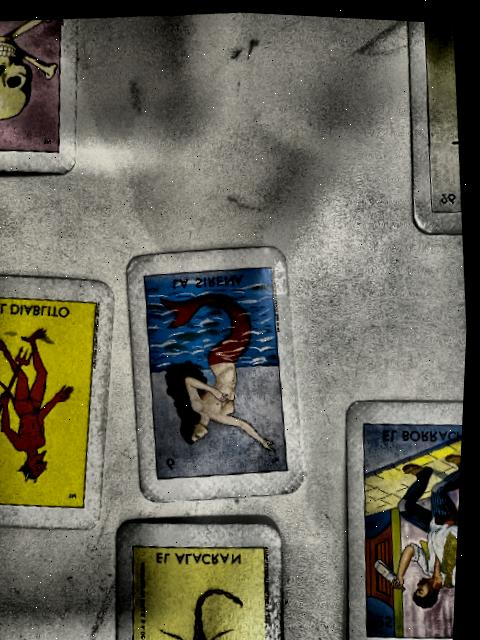La Sirena: (144, 262, 291, 476)
